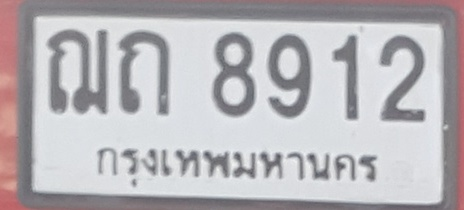txt09: (44, 27, 110, 117)
txt17: (116, 29, 171, 118)
